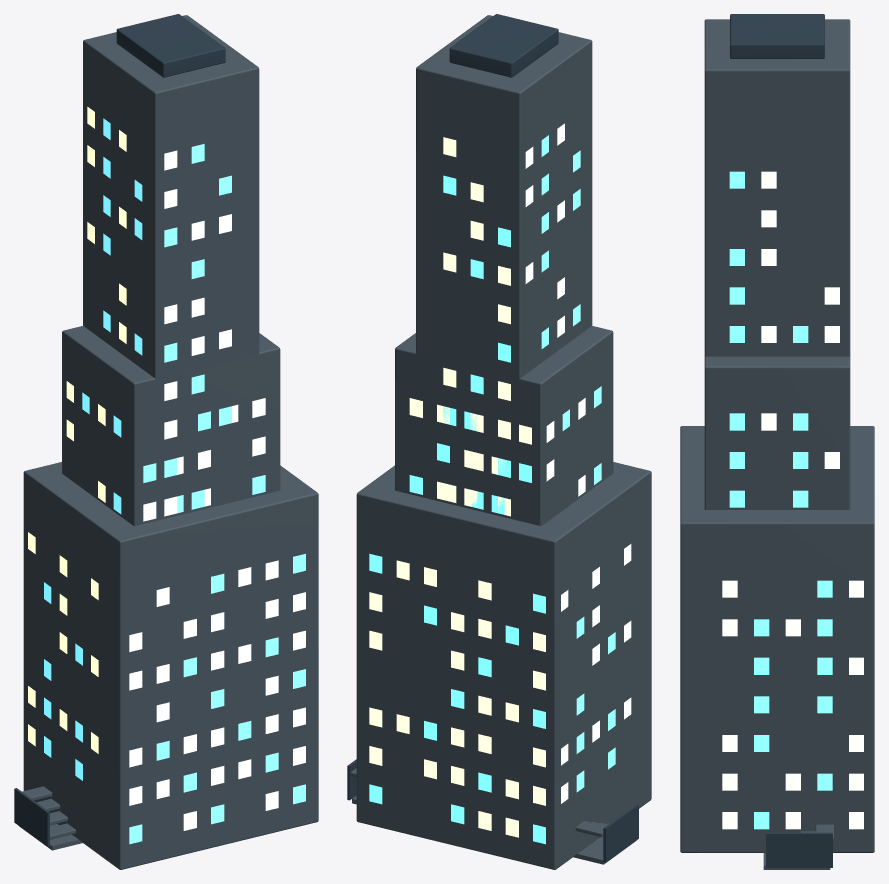
File: props.glb
The picture shows the model from 3 angles, left to right: view 1: azimuth 30°, elevation 25°; view 2: azimuth 150°, elevation 25°; view 3: azimuth 270°, elevation 25°; orthographic projection.
Parts seen in each view (by area): view 1: Building2, Building1, Building0, Grandstand; view 2: Building2, Building1, Building0, Grandstand; view 3: Building2, Building1, Building0, Grandstand.
Boxes of the visible parts, left/top/right/bottom form: Building2: left=23, top=462, right=318, bottom=869; Building1: left=83, top=14, right=259, bottom=516; Building0: left=62, top=326, right=280, bottom=525; Grandstand: left=14, top=786, right=82, bottom=850; Building2: left=356, top=462, right=651, bottom=869; Building1: left=416, top=14, right=592, bottom=520; Building0: left=395, top=326, right=613, bottom=525; Grandstand: left=347, top=759, right=638, bottom=864; Building2: left=680, top=426, right=874, bottom=852; Building1: left=704, top=14, right=850, bottom=356; Building0: left=704, top=356, right=850, bottom=509; Grandstand: left=763, top=824, right=833, bottom=869.
Size of the model in its own units: 24.63 by 71.23 by 16.03.
